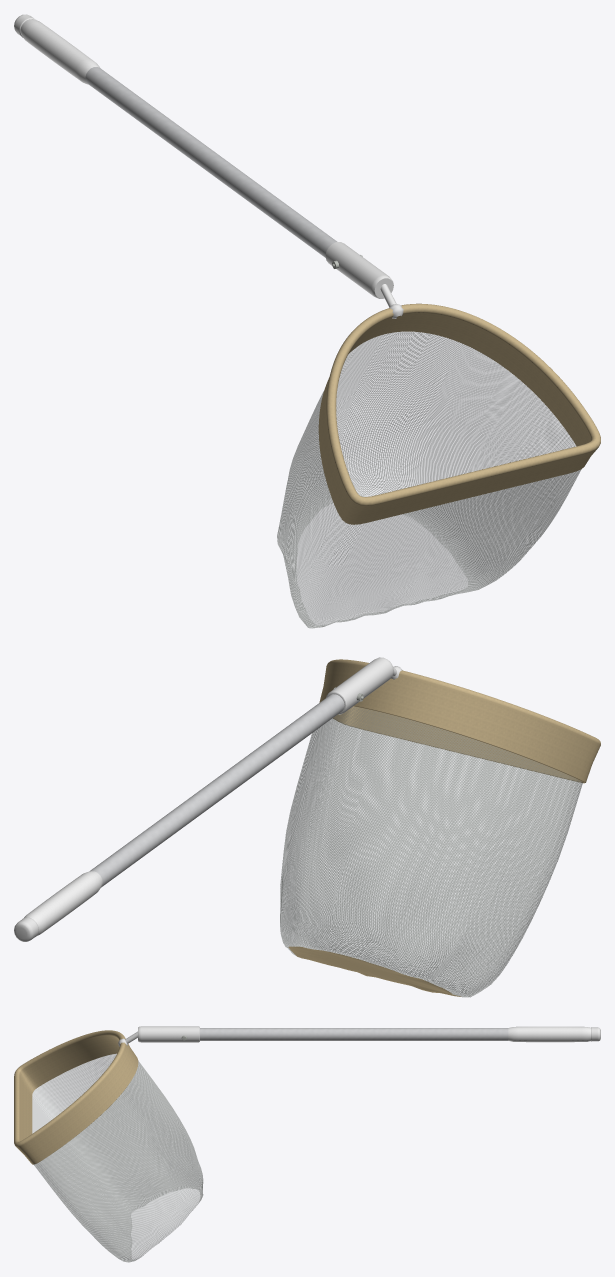
Rendered from net_dframe.lod1.glb.
3 renders of one model, top to bottom at view 1: azimuth 30°, elevation 25°; view 2: azimuth 150°, elevation 25°; view 3: azimuth 270°, elevation 25°, orthographic. The views are drawn at different scales.
Parts seen in each view (by area): view 1: Bag, Frame, Handle; view 2: Bag, Frame, Handle; view 3: Bag, Frame, Handle.
Boxes of the visible parts, left/top/right/bottom form: Bag: left=277, top=332, right=581, bottom=628; Frame: left=318, top=284, right=600, bottom=524; Handle: left=14, top=14, right=393, bottom=298; Bag: left=280, top=706, right=582, bottom=997; Frame: left=319, top=659, right=600, bottom=783; Handle: left=14, top=657, right=393, bottom=941; Bag: left=32, top=1054, right=203, bottom=1262; Frame: left=14, top=1030, right=138, bottom=1164; Handle: left=138, top=1026, right=600, bottom=1042.
Size of the model in its own units: 0.3603 by 0.4504 by 1.14.
Materials: 7 (7 with a texture image).
